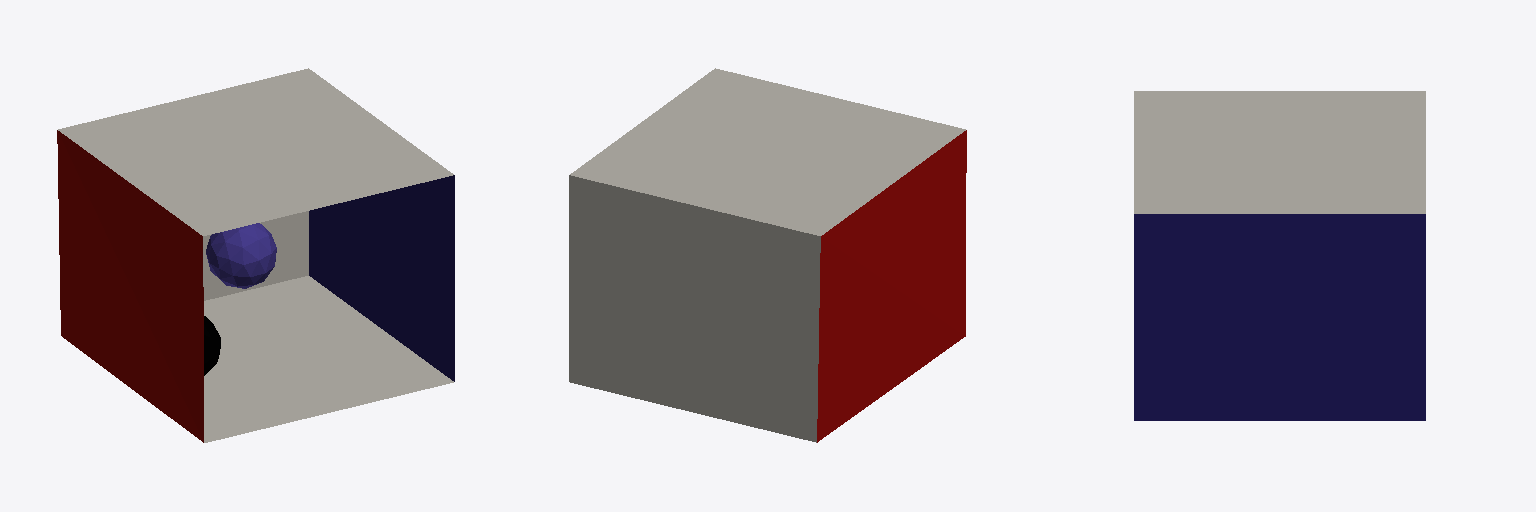
The model's file is CornellBox-Sphere-367.obj.
3 views of the same model, side by side, from view 1: azimuth 30°, elevation 25°; view 2: azimuth 150°, elevation 25°; view 3: azimuth 270°, elevation 25° (orthographic).
Parts seen in each view (by area): view 1: ceiling, leftWall, floor, rightWall, leftSphere, backWall, rightSphere; view 2: backWall, ceiling, leftWall; view 3: rightWall, ceiling.
Part boxes in pixels (x1,y1,x2,y2): ceiling: (58, 68, 453, 235); leftWall: (57, 130, 203, 442); floor: (204, 276, 453, 442); rightWall: (309, 175, 454, 381); leftSphere: (206, 223, 276, 288); backWall: (203, 211, 308, 300); rightSphere: (204, 316, 220, 375); backWall: (569, 175, 820, 442); ceiling: (570, 68, 965, 235); leftWall: (817, 130, 966, 442); rightWall: (1134, 214, 1425, 420); ceiling: (1134, 91, 1425, 213).
Bounding box in the file's own units: 2.02 × 1.59 × 2.03.